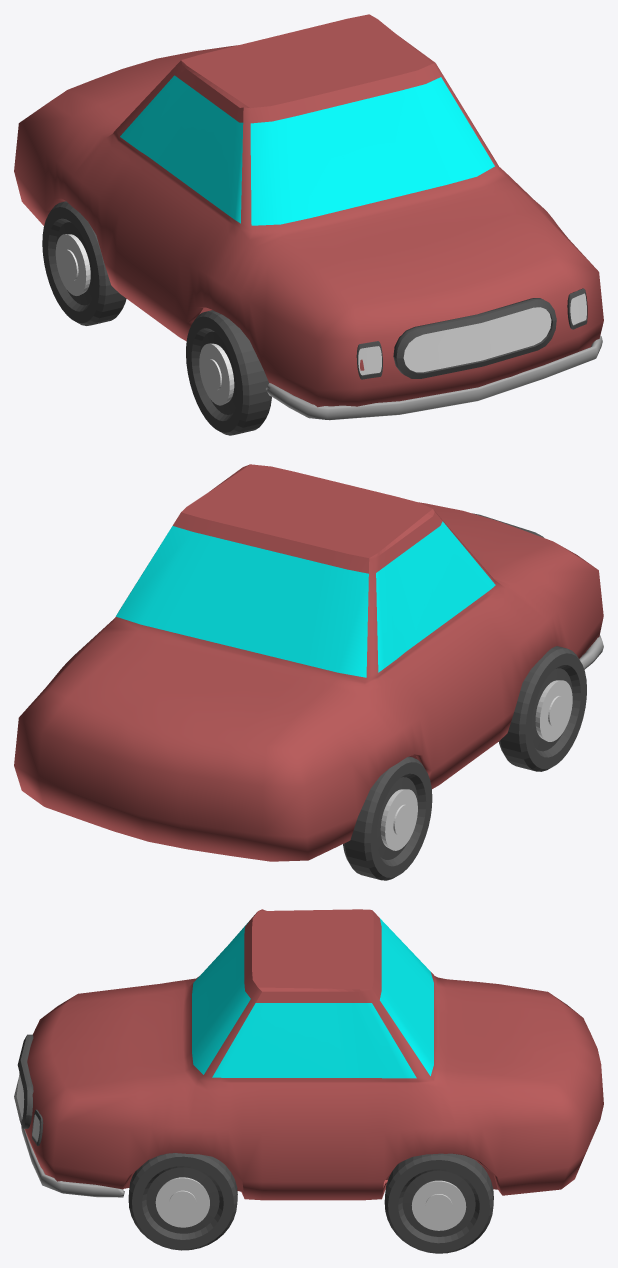
File: Car.fbx
3 renders of one model, top to bottom at view 1: azimuth 30°, elevation 25°; view 2: azimuth 150°, elevation 25°; view 3: azimuth 270°, elevation 25°, orthographic. The views are drawn at different scales.
Visible parts, largest first — view 1: car3, pCube6, pCylinder6, pCylinder7, pCube7, pCube9, pCube8; view 2: car3, pCylinder6, pCylinder7; view 3: car3, pCylinder5, pCylinder1, pCube7, pCube6.
Part boxes in pixels (box(x1,y1,x2,y2)): car3: box(14, 14, 603, 407); pCube6: box(393, 298, 556, 378); pCylinder6: box(186, 310, 271, 435); pCylinder7: box(42, 201, 126, 325); pCube7: box(266, 335, 602, 420); pCube9: box(356, 341, 382, 379); pCube8: box(567, 288, 587, 329); car3: box(14, 464, 603, 861); pCylinder6: box(499, 646, 586, 771); pCylinder7: box(343, 756, 432, 880); car3: box(25, 909, 603, 1200); pCylinder5: box(384, 1153, 493, 1253); pCylinder1: box(128, 1153, 237, 1250); pCube7: box(21, 1126, 124, 1197); pCube6: box(14, 1034, 33, 1128).
Bounding box in the file's own units: 256 × 193 × 441.
